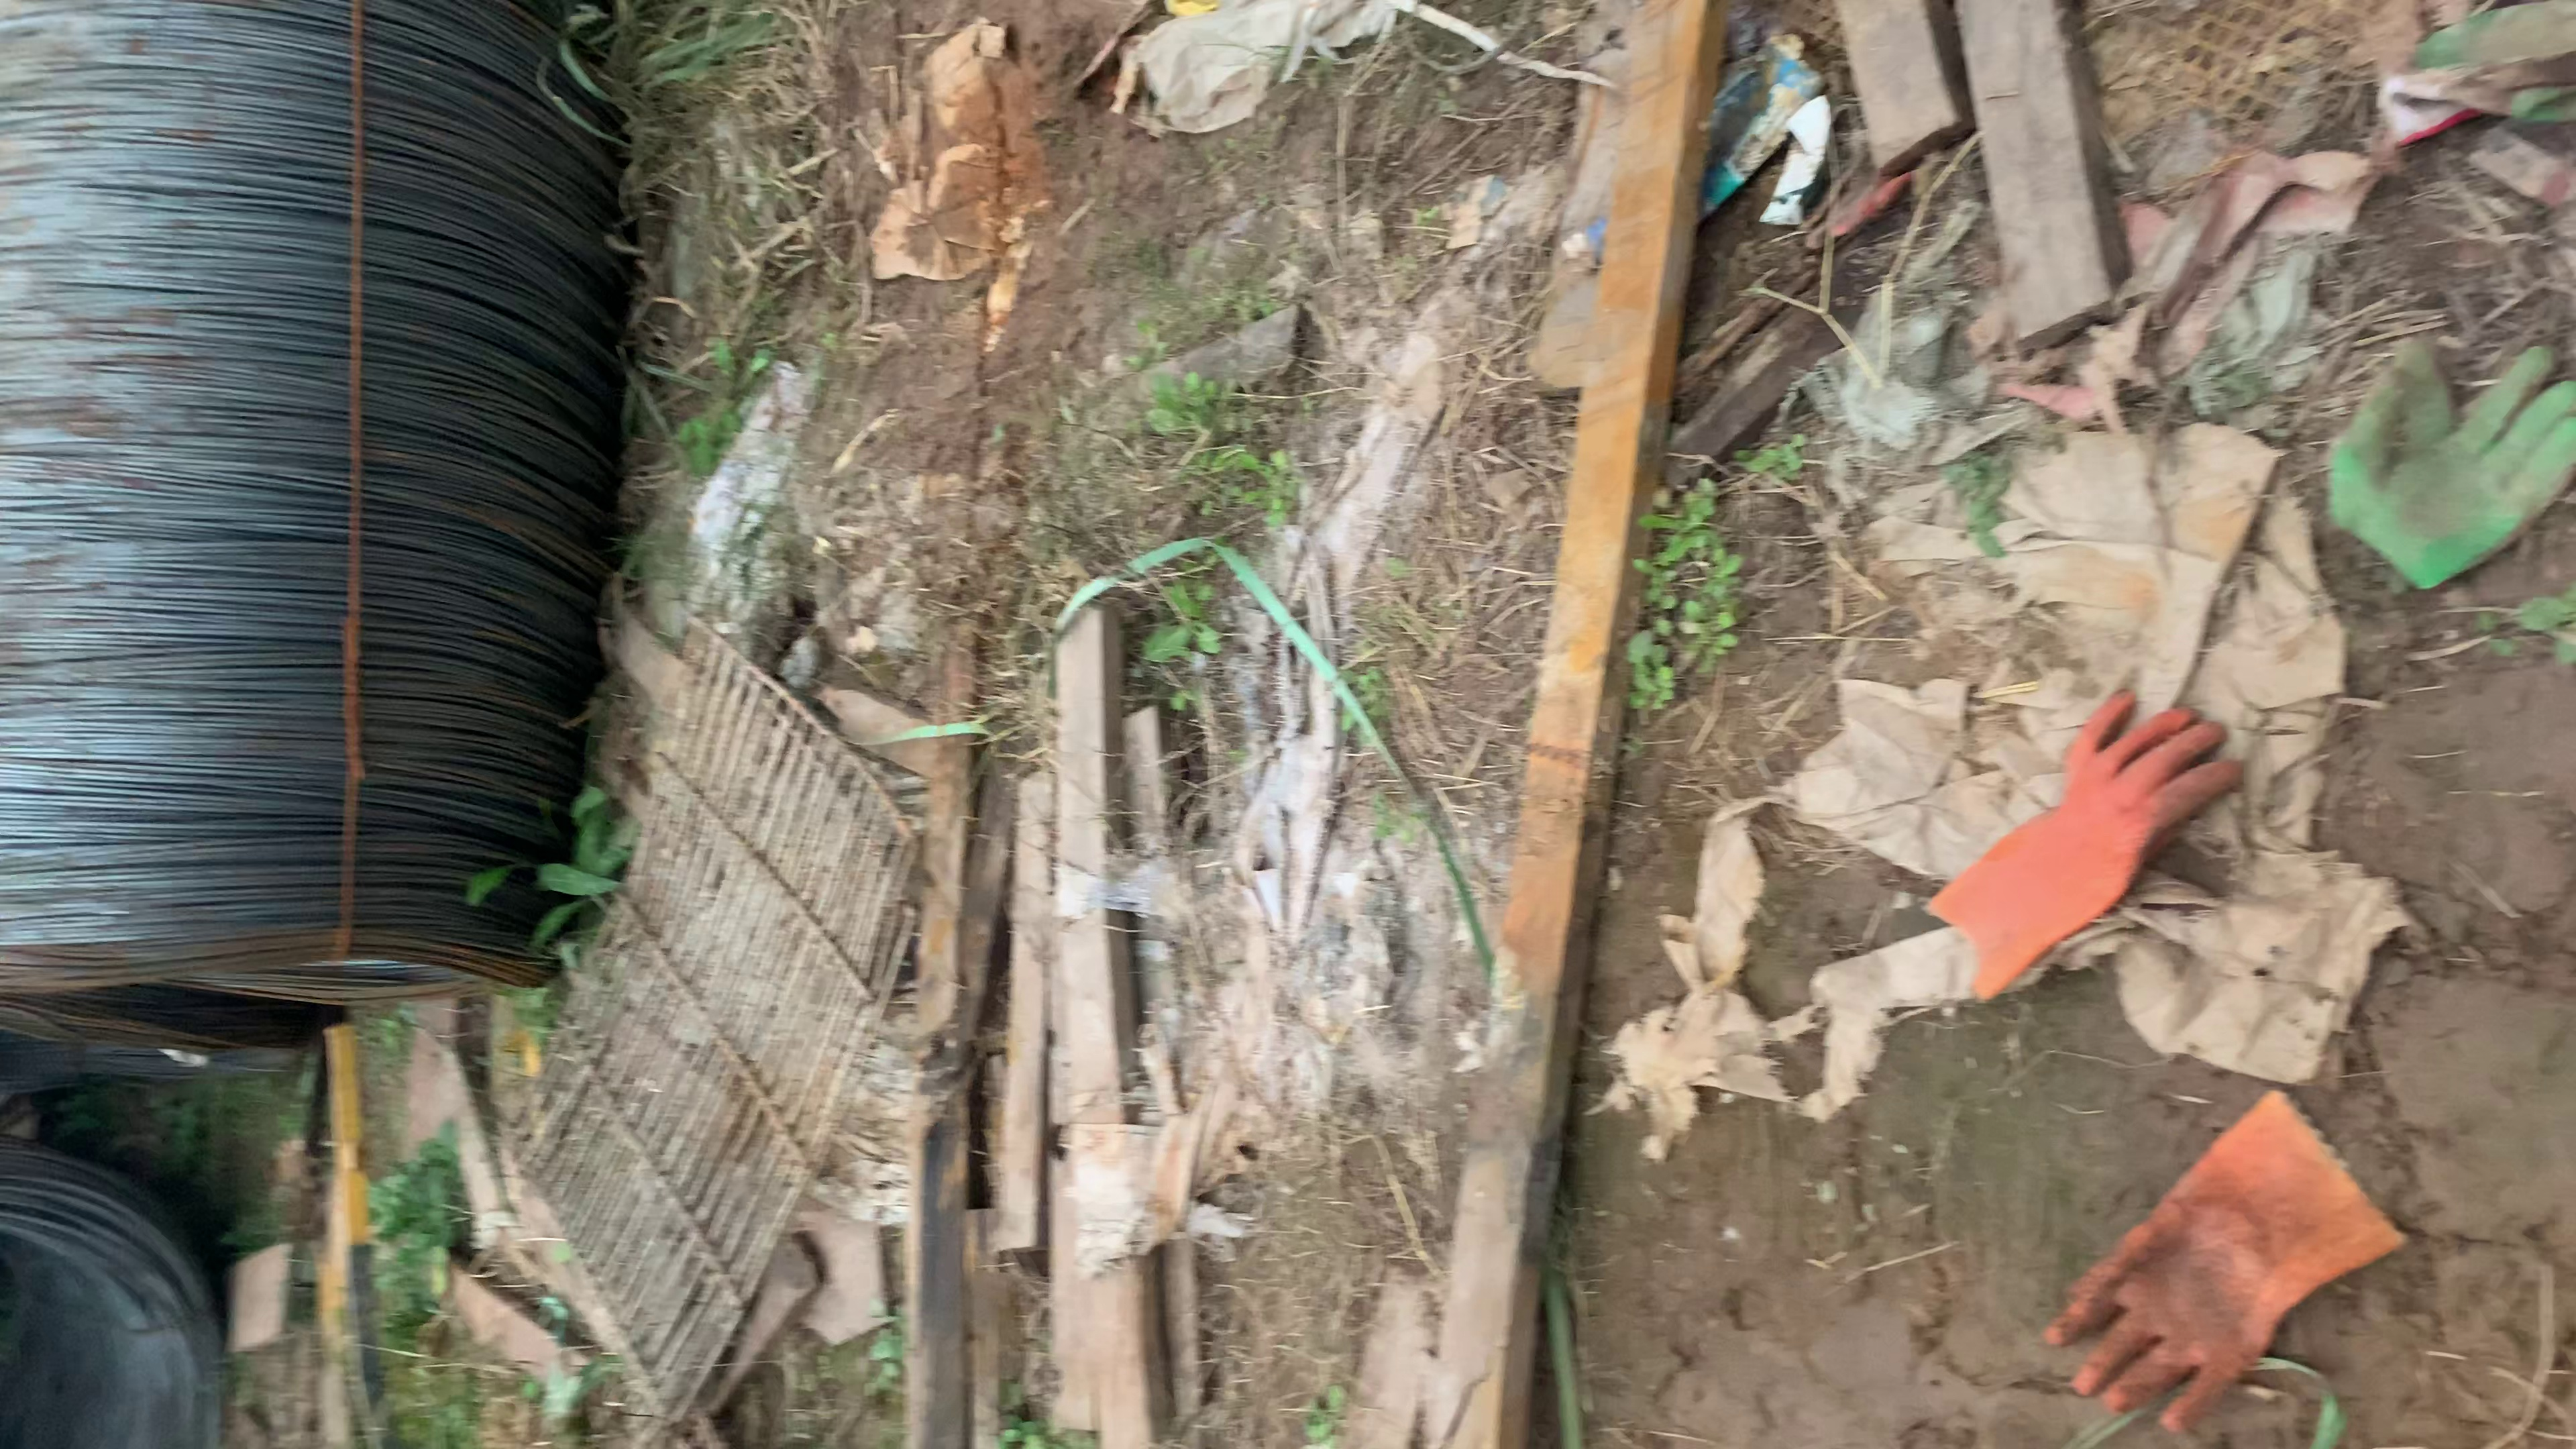coil: (0, 929, 591, 1049), (0, 1169, 271, 1426)
